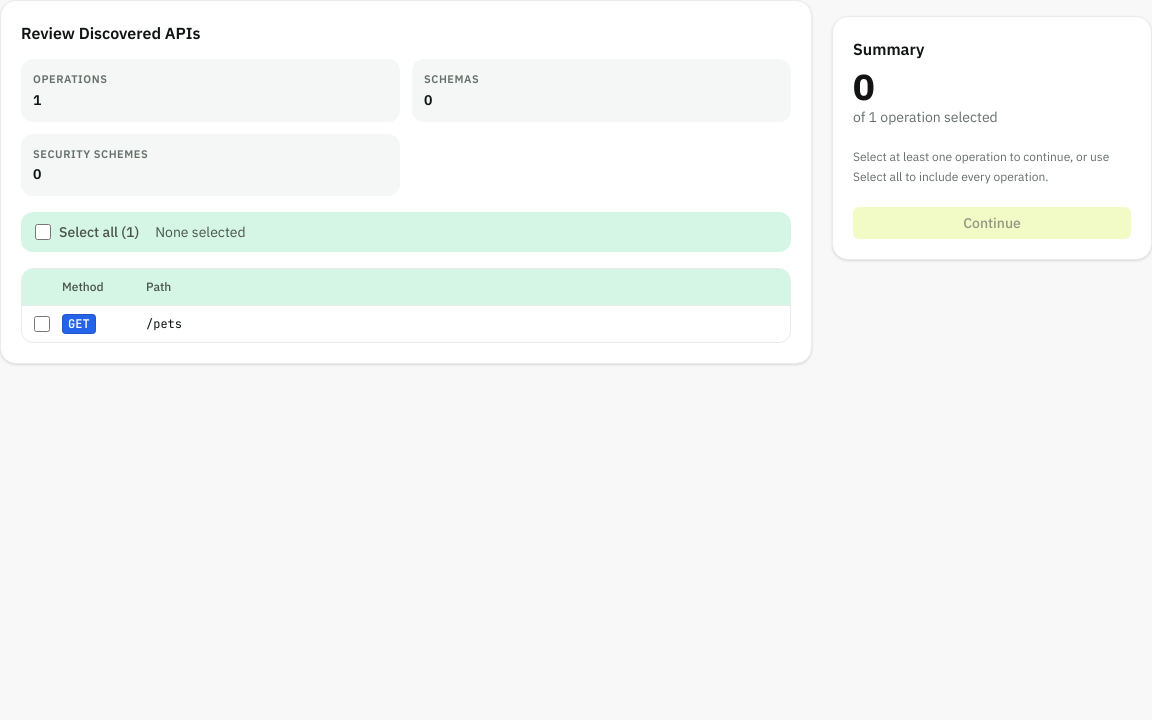
Test: ApiReviewStage for an OpenAPI model is unchanged › shows no import summary, origin badge or observation text
The width and height of the screenshot is (1152, 720).
Click the button "GET /pets" at {"x": 79, "y": 324}, box [62,306,790,342]
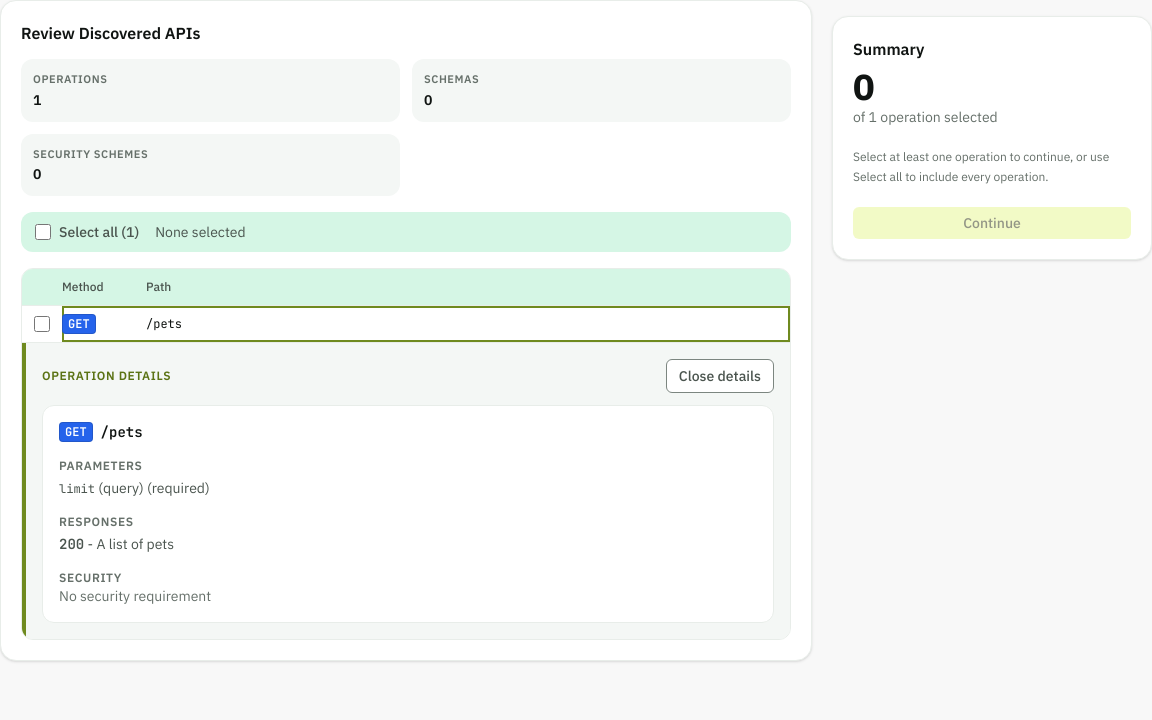
Result: the element with test id "operation-detail" shows "limit (query) (required)" at [42,405,774,623]
Result: the element with test id "operation-detail" shows "200 - A list of pets" at [42,405,774,623]
Result: the element with test id "operation-detail" shows "No security requirement" at [59,587,211,605]
